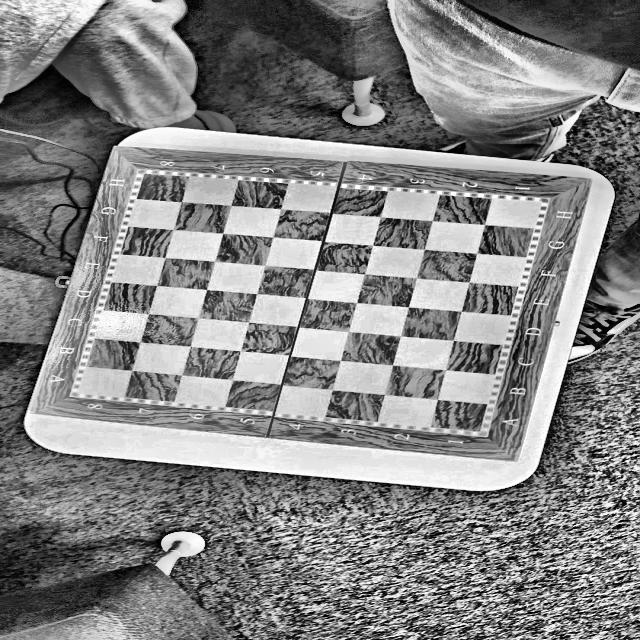chessboard: (67, 169, 551, 437)
p1: (475, 427, 484, 434)
p2: (74, 389, 88, 395)
p3: (138, 172, 152, 179)
p4: (528, 200, 545, 205)
